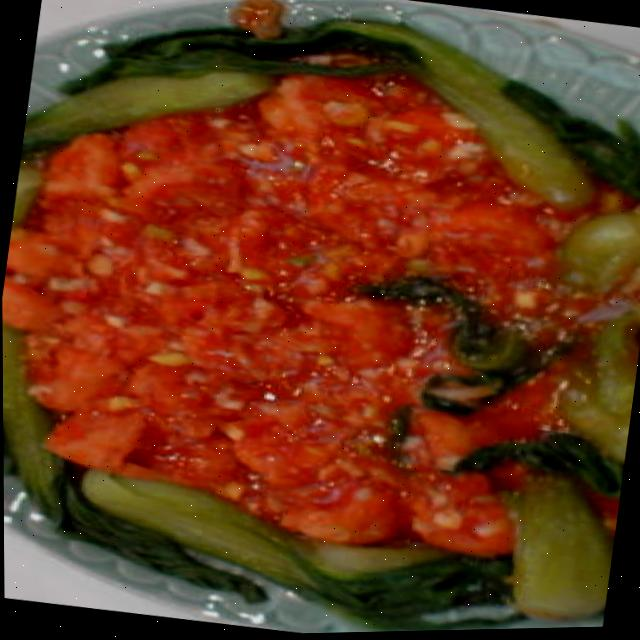熟制海鲜: (0, 32, 593, 601)
